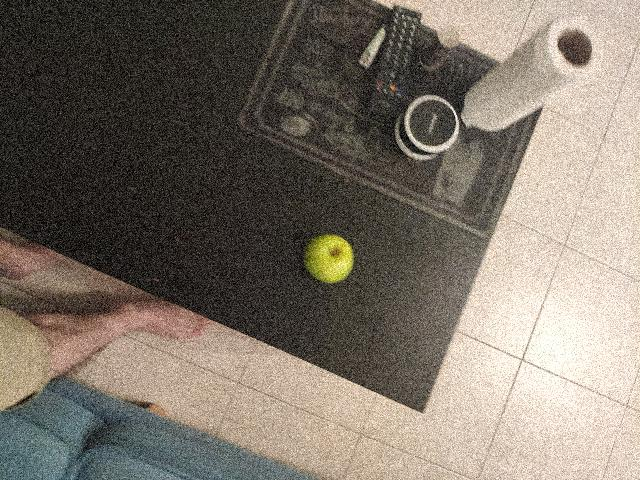apple: (392, 284, 444, 347)
